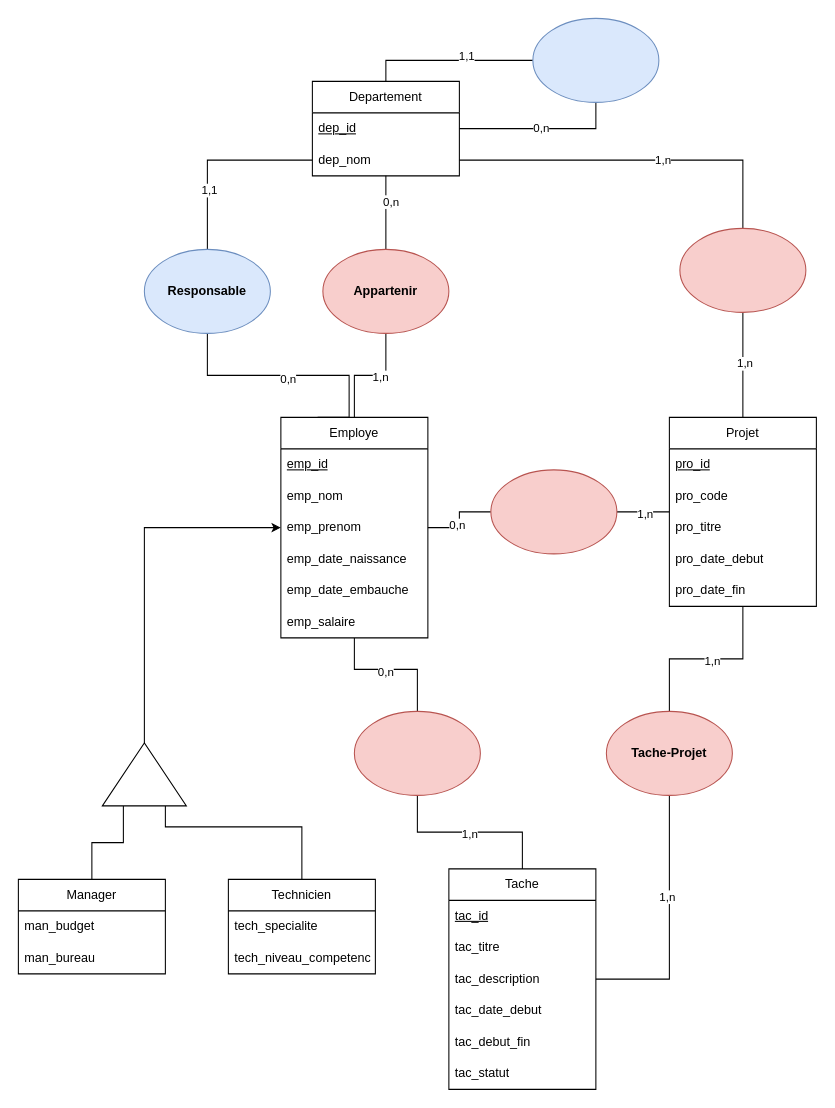
This 835x1108 diagram has some shape labels left out. The centre of each missing label's shape, as x and y in pixels:
"Affecter" goes at (x=553, y=511).
"Affecter Tache" goes at (x=416, y=752).
"Contenir" goes at (x=595, y=59).
"Lier" goes at (x=742, y=269).
